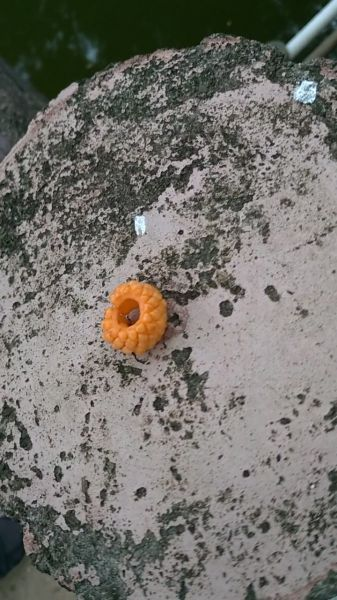eggs: (93, 278, 176, 356)
